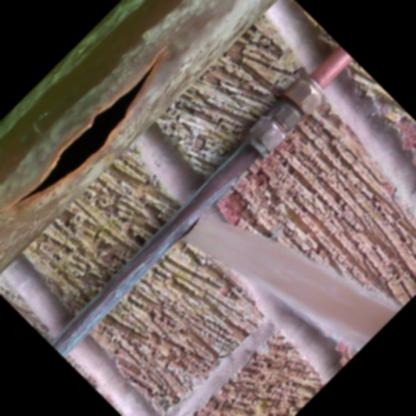burst: (12, 45, 183, 207)
